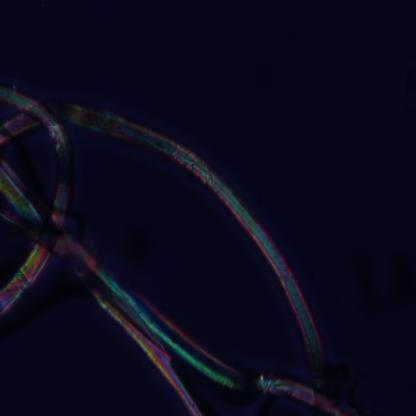Microfibre: (0, 82, 344, 416)
